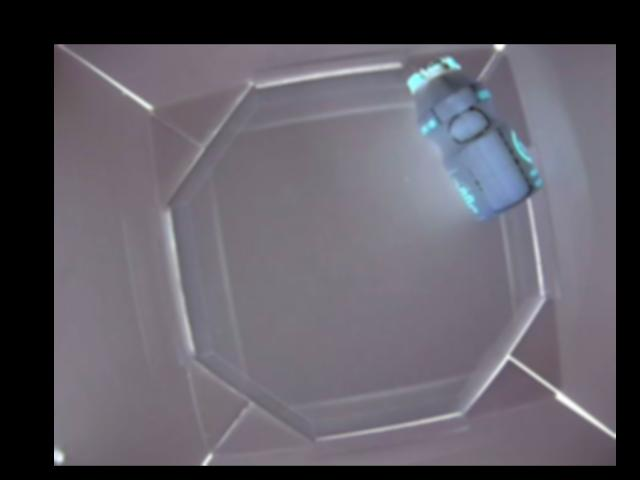Bottle: (411, 53, 544, 217)
